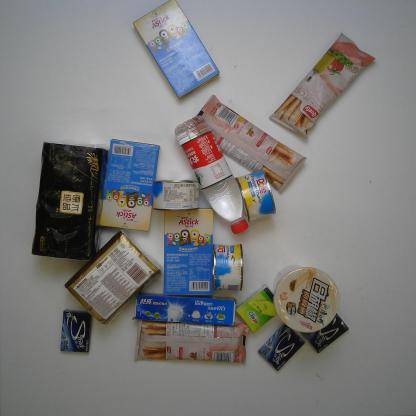Canned Food: (233, 169, 280, 222), (149, 178, 202, 213), (212, 241, 247, 294)
Dessert: (267, 31, 377, 140), (196, 93, 309, 197), (131, 1, 222, 101), (97, 137, 162, 233), (133, 320, 252, 368), (159, 207, 216, 297)
Drink: (173, 114, 251, 236)
Gum: (256, 325, 307, 373), (302, 313, 351, 355), (57, 308, 92, 354)
Instant Noodles: (272, 262, 342, 335)
Personal Hygiene: (132, 291, 237, 329)
Tissue: (64, 228, 161, 327), (29, 139, 107, 261), (235, 282, 278, 334)
